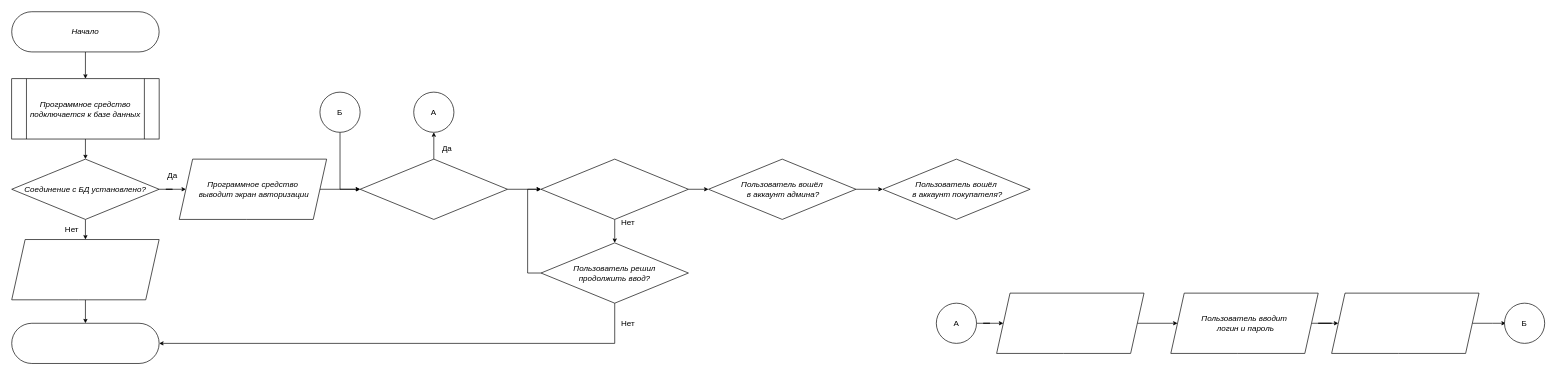
This 1556x375 diagram has some shape labels left out. The shapes that lost their labels are listed below. From the top down, each one's centre as x and y in pixels, then its label:
(433,188): Пользователь нажал кнопку регистрации?
(614,188): Пользователь ввёл правильные логин и пароль?
(85,269): Программное средство выводит ошибку подключения к БД
(1070,322): Программное средство предлагает зарегистрироваться
(1405,322): Программное средство выводит информацию о результате регситрации
(85,343): Конец
